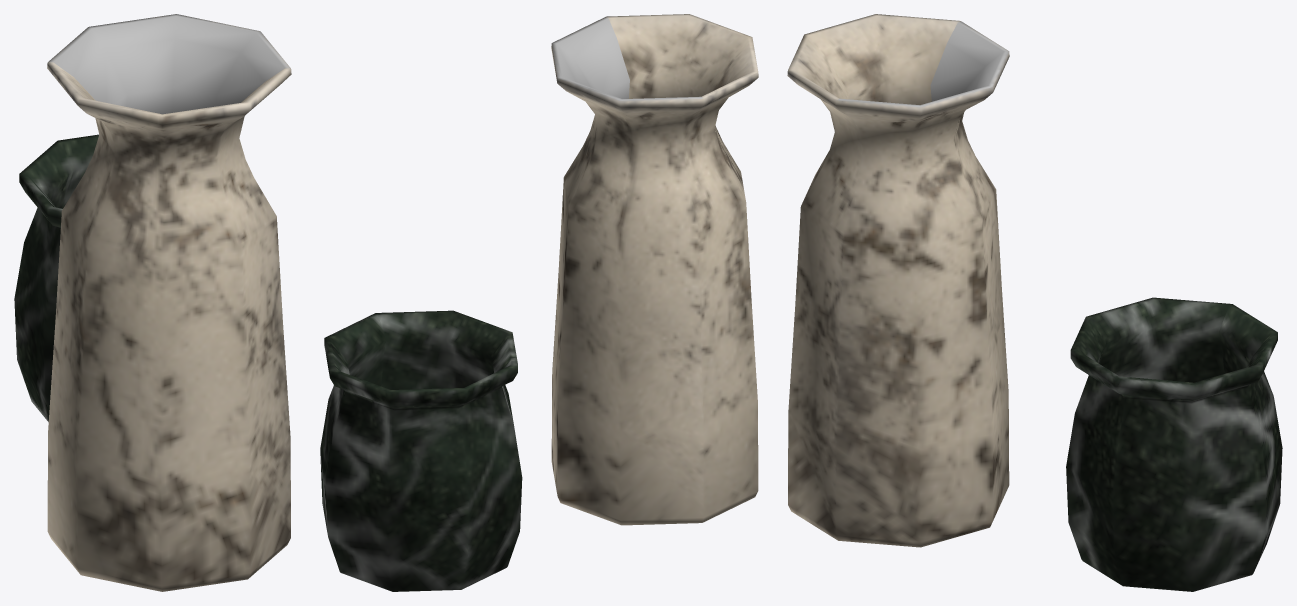
File: Shelf_props_small_vases.fbx
The picture shows the model from 3 angles, left to right: view 1: azimuth 30°, elevation 25°; view 2: azimuth 150°, elevation 25°; view 3: azimuth 270°, elevation 25°; orthographic projection. The views are drawn at different scales.
Parts seen in each view (by area): view 1: Cylinder.026; view 2: Cylinder.026; view 3: Cylinder.026.
Boxes of the visible parts, x1,y1,x2,y2 form: Cylinder.026: (14,14,291,591); Cylinder.026: (320,14,758,591); Cylinder.026: (787,14,1282,591).
Bounding box in the file's own units: 12.39 × 17.86 × 18.03.
